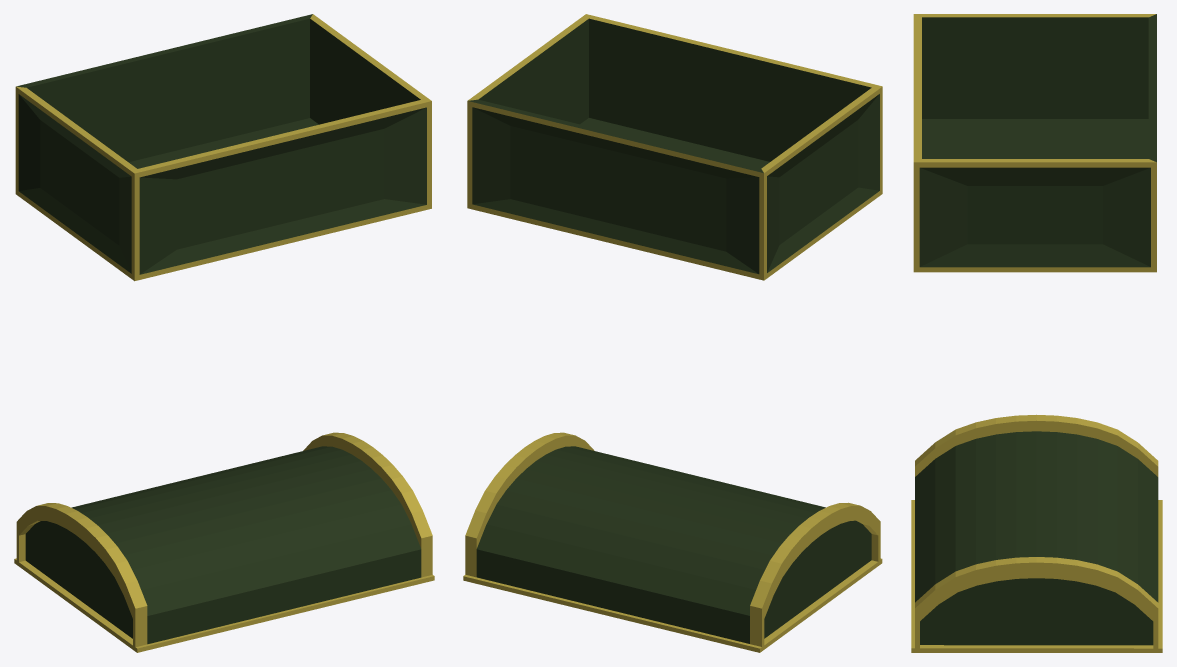
The model's file is chest.glb.
3 views of the same model, side by side, from view 1: azimuth 30°, elevation 25°; view 2: azimuth 150°, elevation 25°; view 3: azimuth 270°, elevation 25° (orthographic). The views are drawn at different scales.
Visible parts, largest first — view 1: Chest, Lid; view 2: Chest, Lid; view 3: Chest, Lid.
Boxes of the visible parts, <box> form: Chest: <box>15,14,431,281</box>; Lid: <box>14,432,434,652</box>; Chest: <box>467,14,882,280</box>; Lid: <box>463,432,882,652</box>; Chest: <box>913,14,1156,272</box>; Lid: <box>911,414,1162,652</box>.
Bounding box in the file's own units: 0.5198 × 0.7963 × 0.3698.
